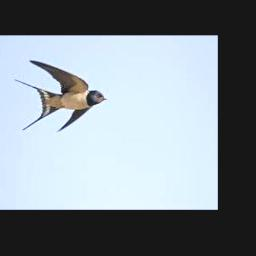Swallow: (13, 59, 107, 131)
